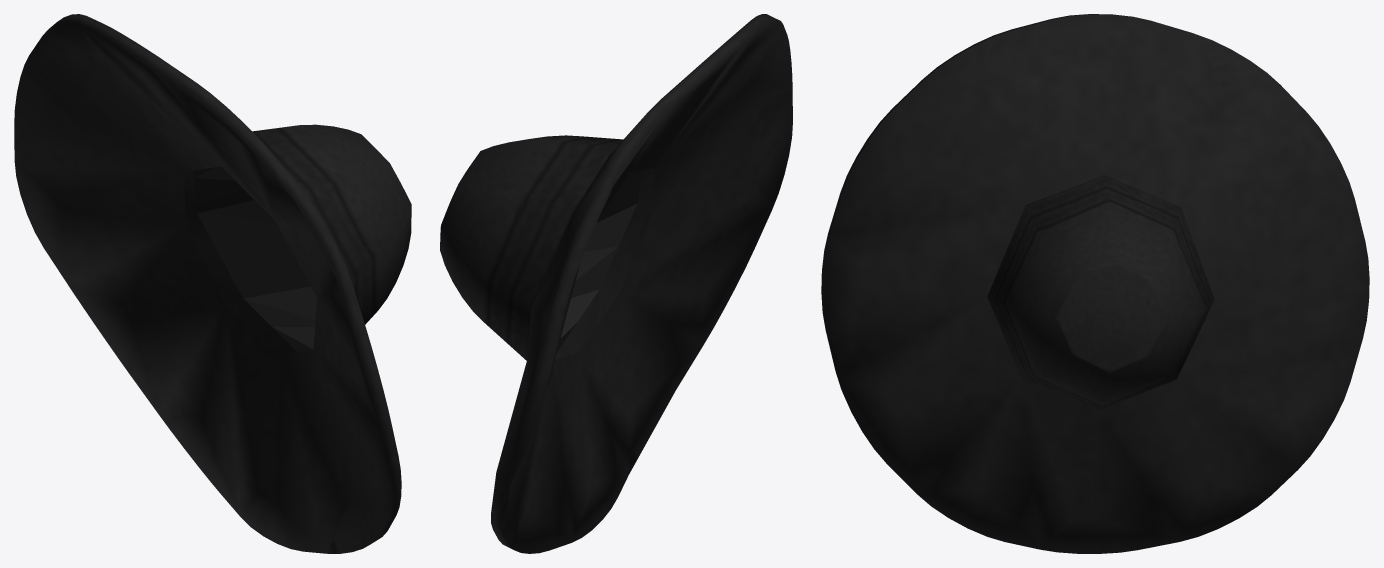
The model's file is LadyDHat.fbx.
3 renders of one model, left to right at view 1: azimuth 30°, elevation 25°; view 2: azimuth 150°, elevation 25°; view 3: azimuth 270°, elevation 25°, orthographic. The views are drawn at different scales.
Parts seen in each view (by area): view 1: F_SummerHat; view 2: F_SummerHat; view 3: F_SummerHat.
Part boxes in pixels (box(x1,y1,x2,y2)): F_SummerHat: box(14, 14, 411, 553); F_SummerHat: box(440, 14, 792, 553); F_SummerHat: box(821, 14, 1369, 553).
Size of the model in its own units: 0.1767 by 0.3212 by 0.3346.
